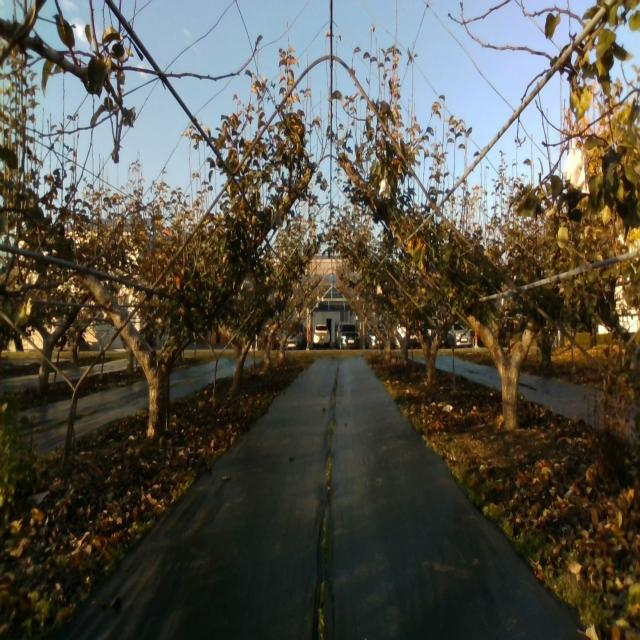pearbags: (563, 138, 590, 194), (379, 179, 391, 199)
